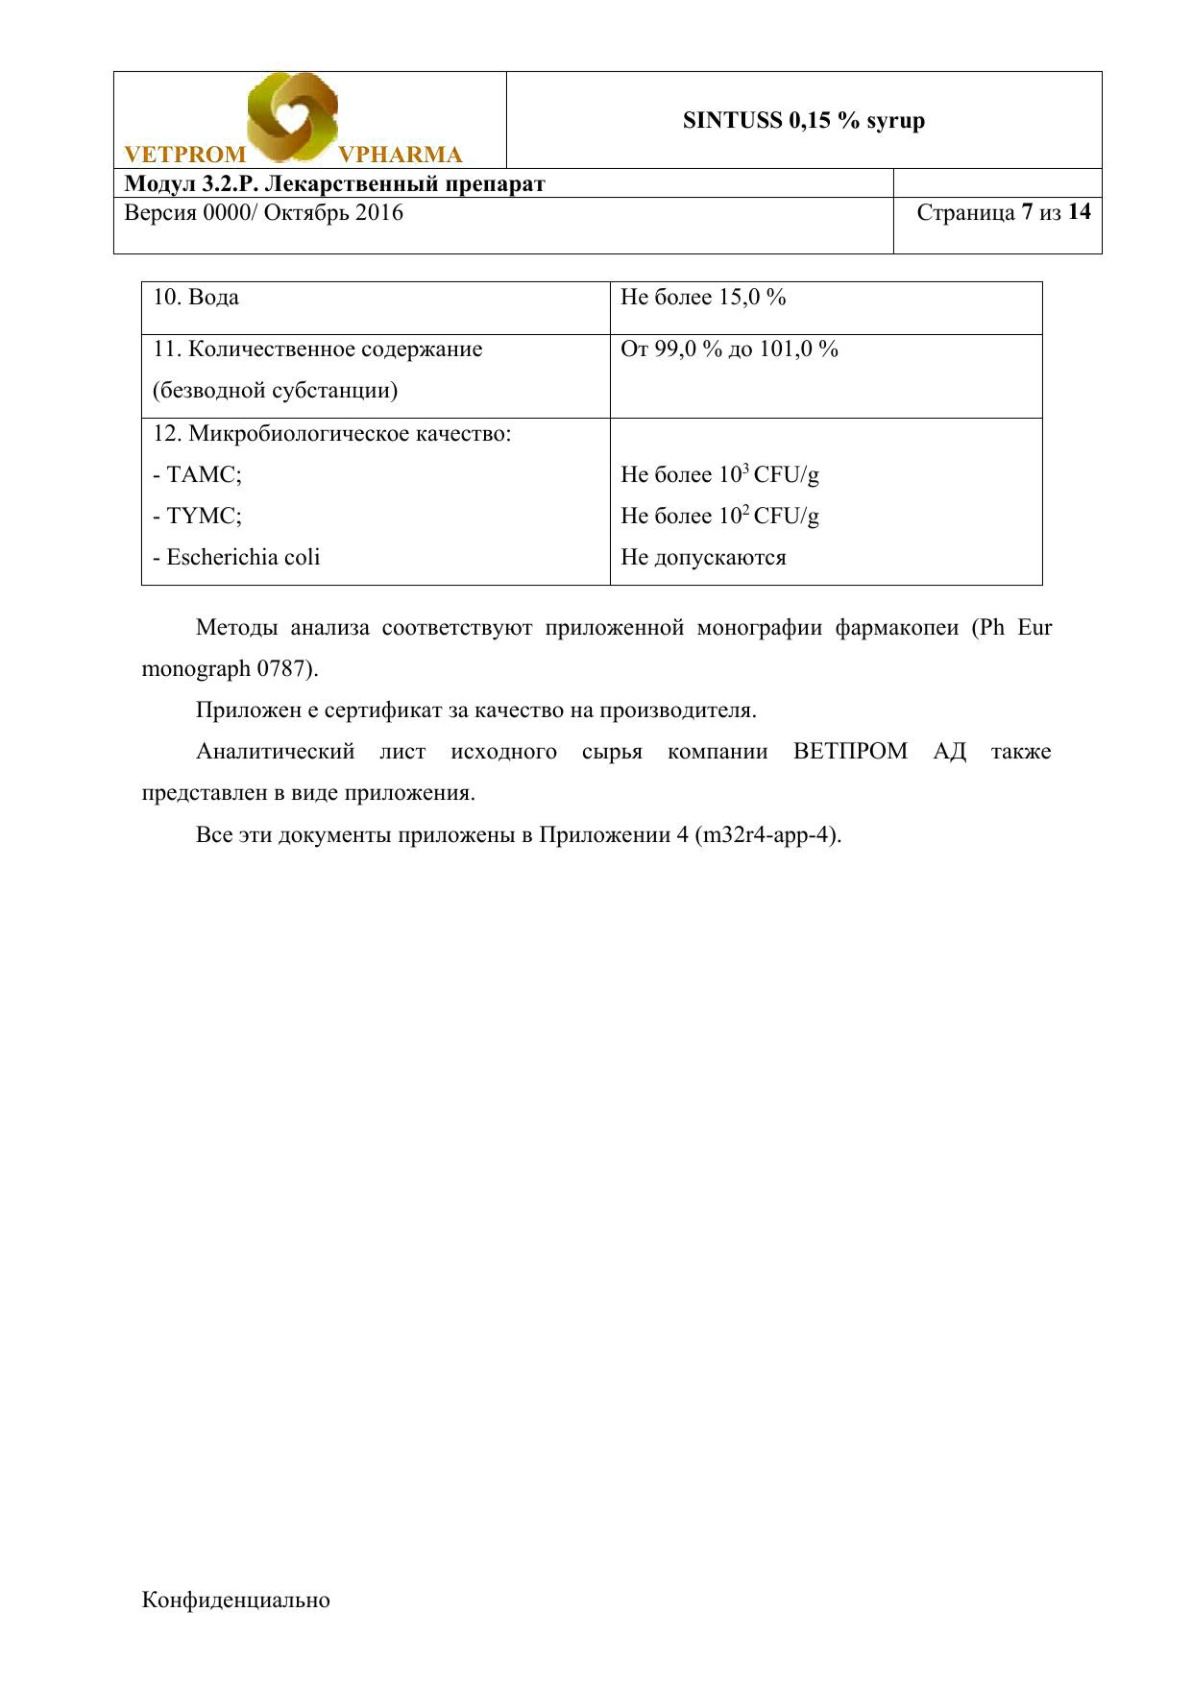full_lined: (139, 279, 1044, 587)
merged_cells: (111, 68, 1104, 255)
